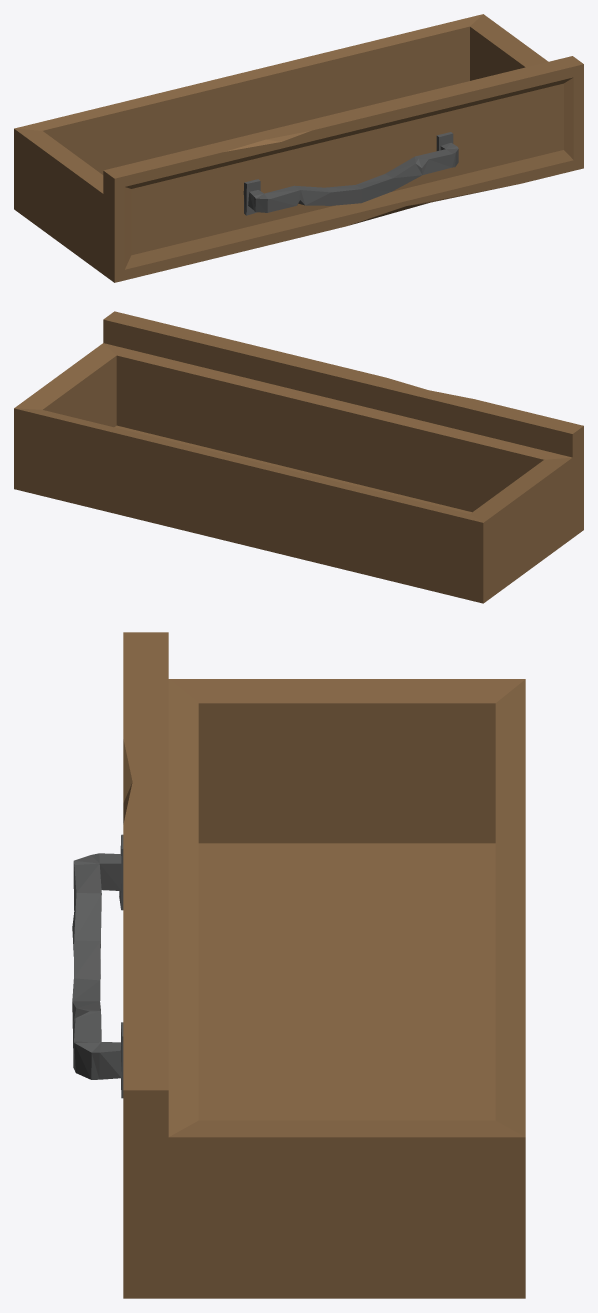
Rendered from SFHW_Roof_Shelving_003_Cabinet.fbx.
3 renders of one model, top to bottom at view 1: azimuth 30°, elevation 25°; view 2: azimuth 150°, elevation 25°; view 3: azimuth 270°, elevation 25°, orthographic. The views are drawn at different scales.
Parts seen in each view (by area): view 1: SFHW_Roof_Shelving_003_Cabinet; view 2: SFHW_Roof_Shelving_003_Cabinet; view 3: SFHW_Roof_Shelving_003_Cabinet.
Boxes of the visible parts, x1,y1,x2,y2 form: SFHW_Roof_Shelving_003_Cabinet: (14,14,583,282); SFHW_Roof_Shelving_003_Cabinet: (14,311,583,603); SFHW_Roof_Shelving_003_Cabinet: (72,632,525,1298).
Size of the model in its own units: 148 by 31.44 by 62.
